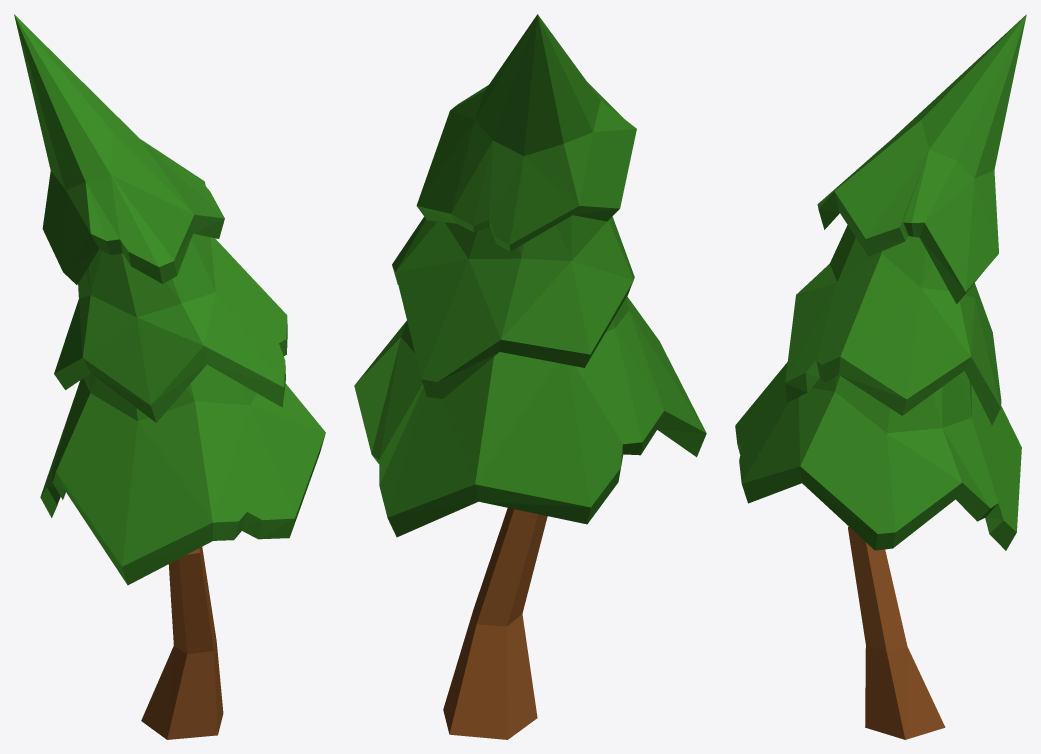
File: Tree.fbx
3 renders of one model, left to right at view 1: azimuth 30°, elevation 25°; view 2: azimuth 150°, elevation 25°; view 3: azimuth 270°, elevation 25°, orthographic. The views are drawn at different scales.
Visible parts, largest first — view 1: PineTree; view 2: PineTree; view 3: PineTree.
Part boxes in pixels (box(x1,y1,x2,y2)): PineTree: box(14, 14, 325, 739); PineTree: box(354, 14, 706, 739); PineTree: box(735, 14, 1026, 739).
Bounding box in the file's own units: 224 × 564 × 226.
